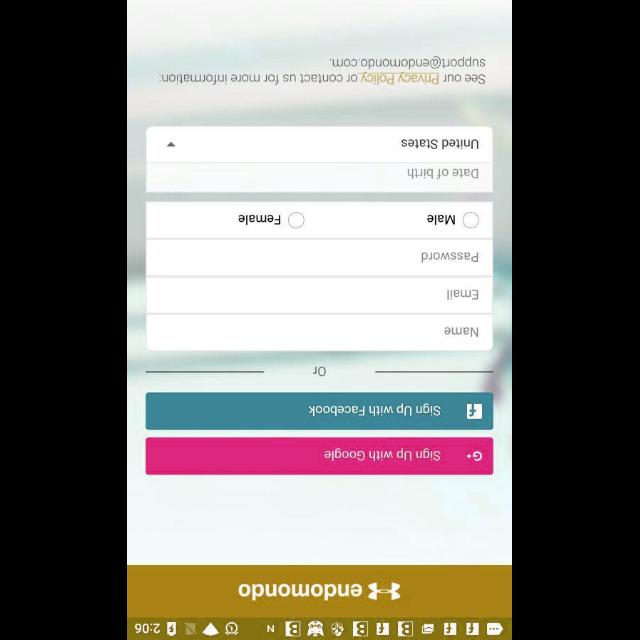checkbox: (290, 212, 304, 228), (464, 212, 478, 228)
image: (238, 582, 402, 600)
input: (148, 312, 494, 351), (148, 238, 494, 276), (148, 278, 494, 314), (147, 164, 493, 192)
text: (159, 56, 485, 85), (408, 168, 478, 180), (402, 139, 480, 149), (422, 252, 478, 262), (238, 214, 280, 224), (444, 326, 478, 336), (428, 214, 454, 226), (448, 289, 478, 299), (314, 366, 326, 376)
textbutton: (146, 437, 494, 475), (146, 392, 494, 430), (147, 126, 493, 162)
uppertaskbar: (128, 617, 512, 639)
